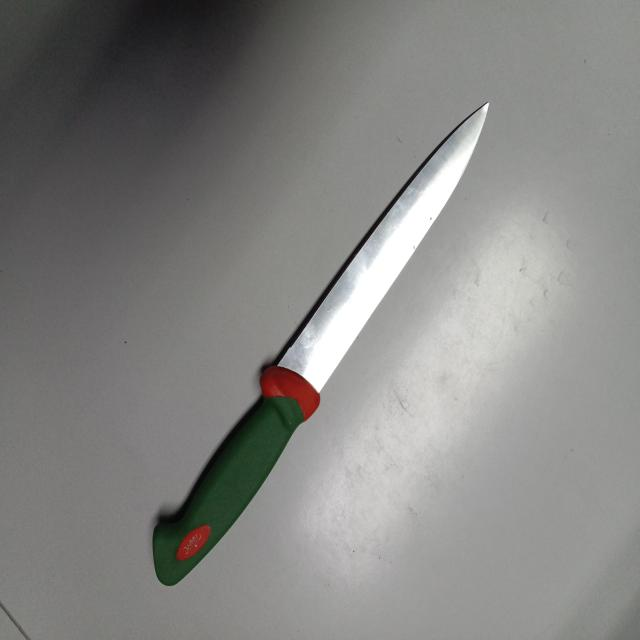Knife: (152, 104, 486, 586)
